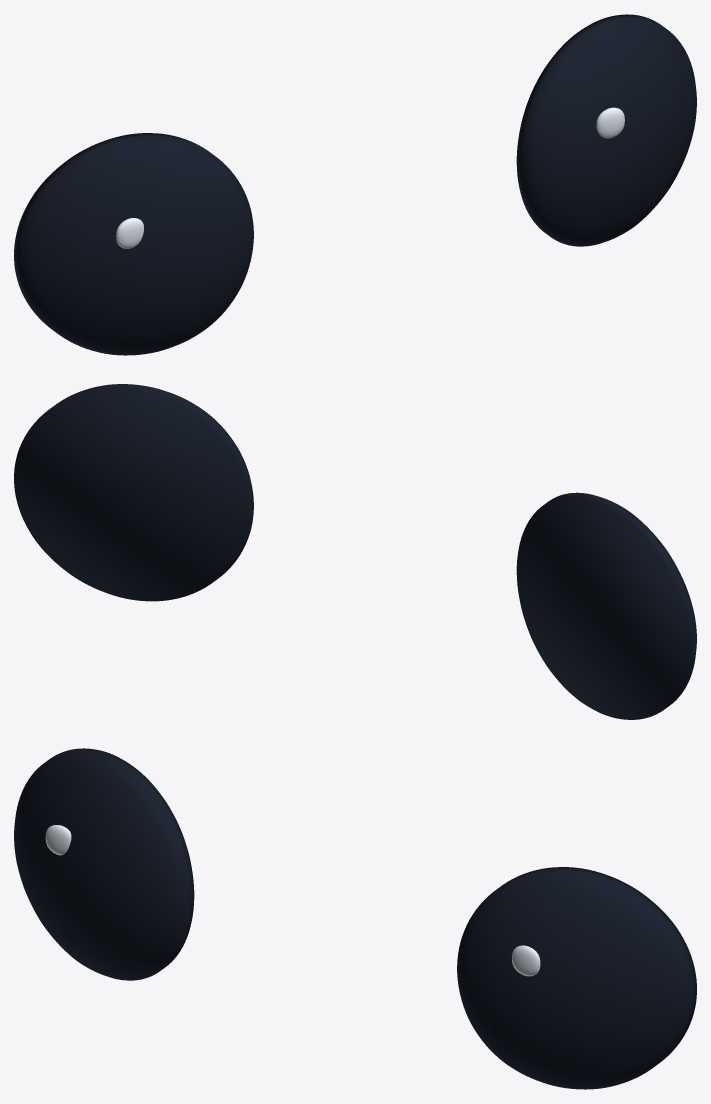
The model's file is Masculine-eyes-soft.glb.
The picture shows the model from 3 angles, top to bottom: view 1: azimuth 30°, elevation 25°; view 2: azimuth 150°, elevation 25°; view 3: azimuth 330°, elevation 25°; orthographic projection.
Parts seen in each view (by area): view 1: Eye / soft -1, Eye / soft 1, Eye highlight / soft 1, Eye highlight / soft -1; view 2: Eye / soft 1, Eye / soft -1; view 3: Eye / soft 1, Eye / soft -1, Eye highlight / soft 1, Eye highlight / soft -1.
Boxes of the visible parts, x1,y1,x2,y2 form: Eye / soft -1: (14,133,253,355); Eye / soft 1: (516,14,696,246); Eye highlight / soft 1: (596,107,624,138); Eye highlight / soft -1: (116,218,143,248); Eye / soft 1: (14,384,253,601); Eye / soft -1: (516,492,696,719); Eye / soft 1: (457,867,696,1089); Eye / soft -1: (14,748,194,980); Eye highlight / soft 1: (511,945,540,976); Eye highlight / soft -1: (45,825,71,855).
Bounding box in the file's own units: 0.43 × 0.1301 × 0.0529.
